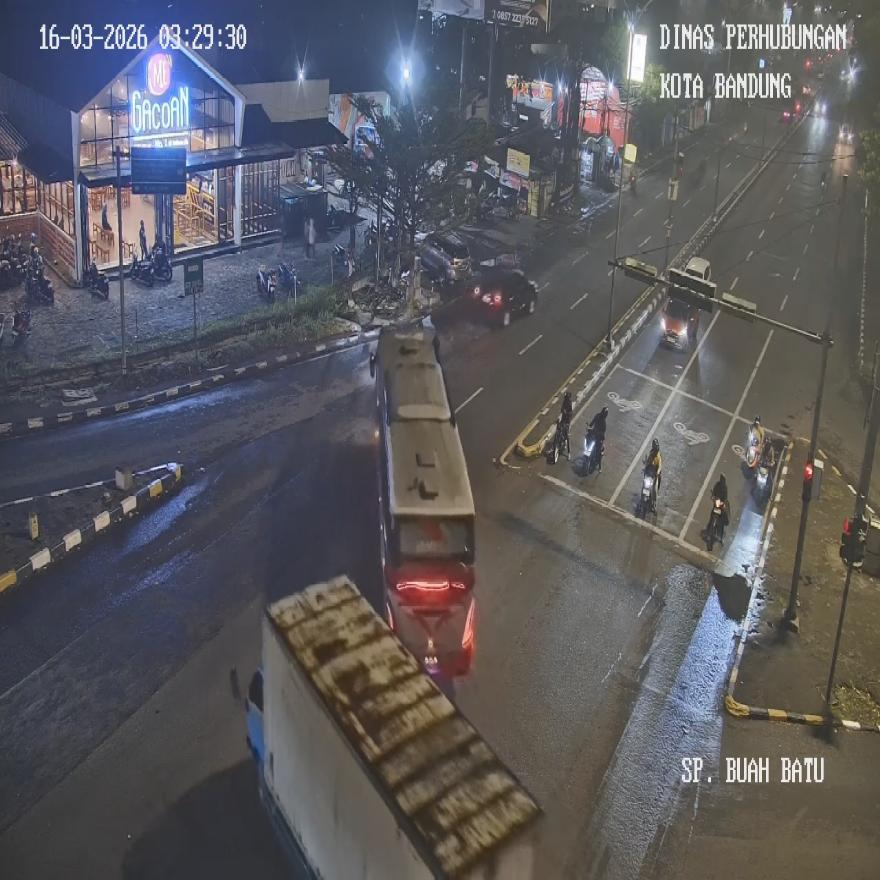Motor: (471, 265, 539, 327), (660, 297, 699, 347)
Truk: (26, 260, 54, 303), (704, 499, 724, 551), (548, 417, 569, 464), (150, 239, 172, 283), (584, 429, 604, 475), (637, 470, 655, 519), (86, 261, 109, 299), (256, 265, 277, 303), (130, 254, 154, 286), (12, 304, 31, 344), (278, 261, 297, 295), (755, 460, 771, 499), (746, 428, 761, 469), (474, 195, 497, 221), (0, 256, 16, 288), (327, 206, 345, 233), (365, 222, 377, 248), (333, 244, 347, 264), (508, 201, 519, 221), (698, 157, 707, 180), (0, 312, 5, 343), (630, 173, 636, 194), (821, 170, 827, 191), (743, 123, 747, 134)
